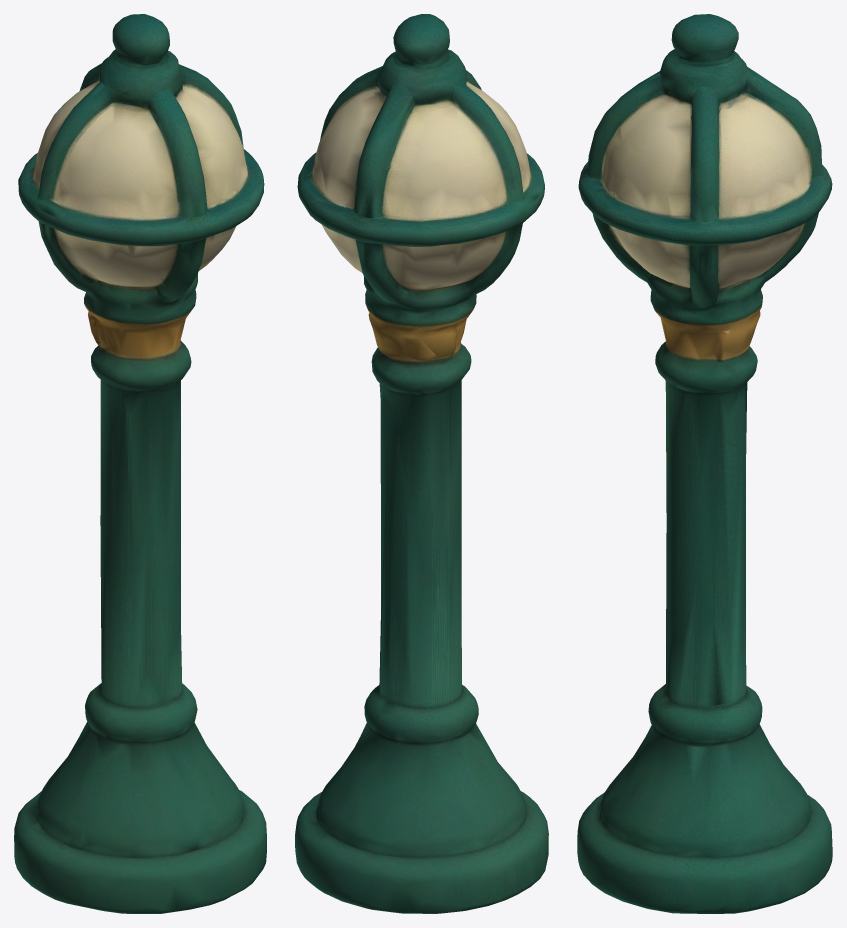
File: prop-streetlamp.glb
3 views of the same model, side by side, from view 1: azimuth 30°, elevation 25°; view 2: azimuth 150°, elevation 25°; view 3: azimuth 270°, elevation 25° (orthographic).
Parts seen in each view (by area): view 1: Mesh_0; view 2: Mesh_0; view 3: Mesh_0.
Boxes of the visible parts, left/top/right/bottom form: Mesh_0: left=14, top=14, right=266, bottom=913; Mesh_0: left=295, top=14, right=548, bottom=913; Mesh_0: left=577, top=14, right=832, bottom=913.
Size of the model in its own units: 0.5452 by 2 by 0.5462.
1 material, 1 textured.
